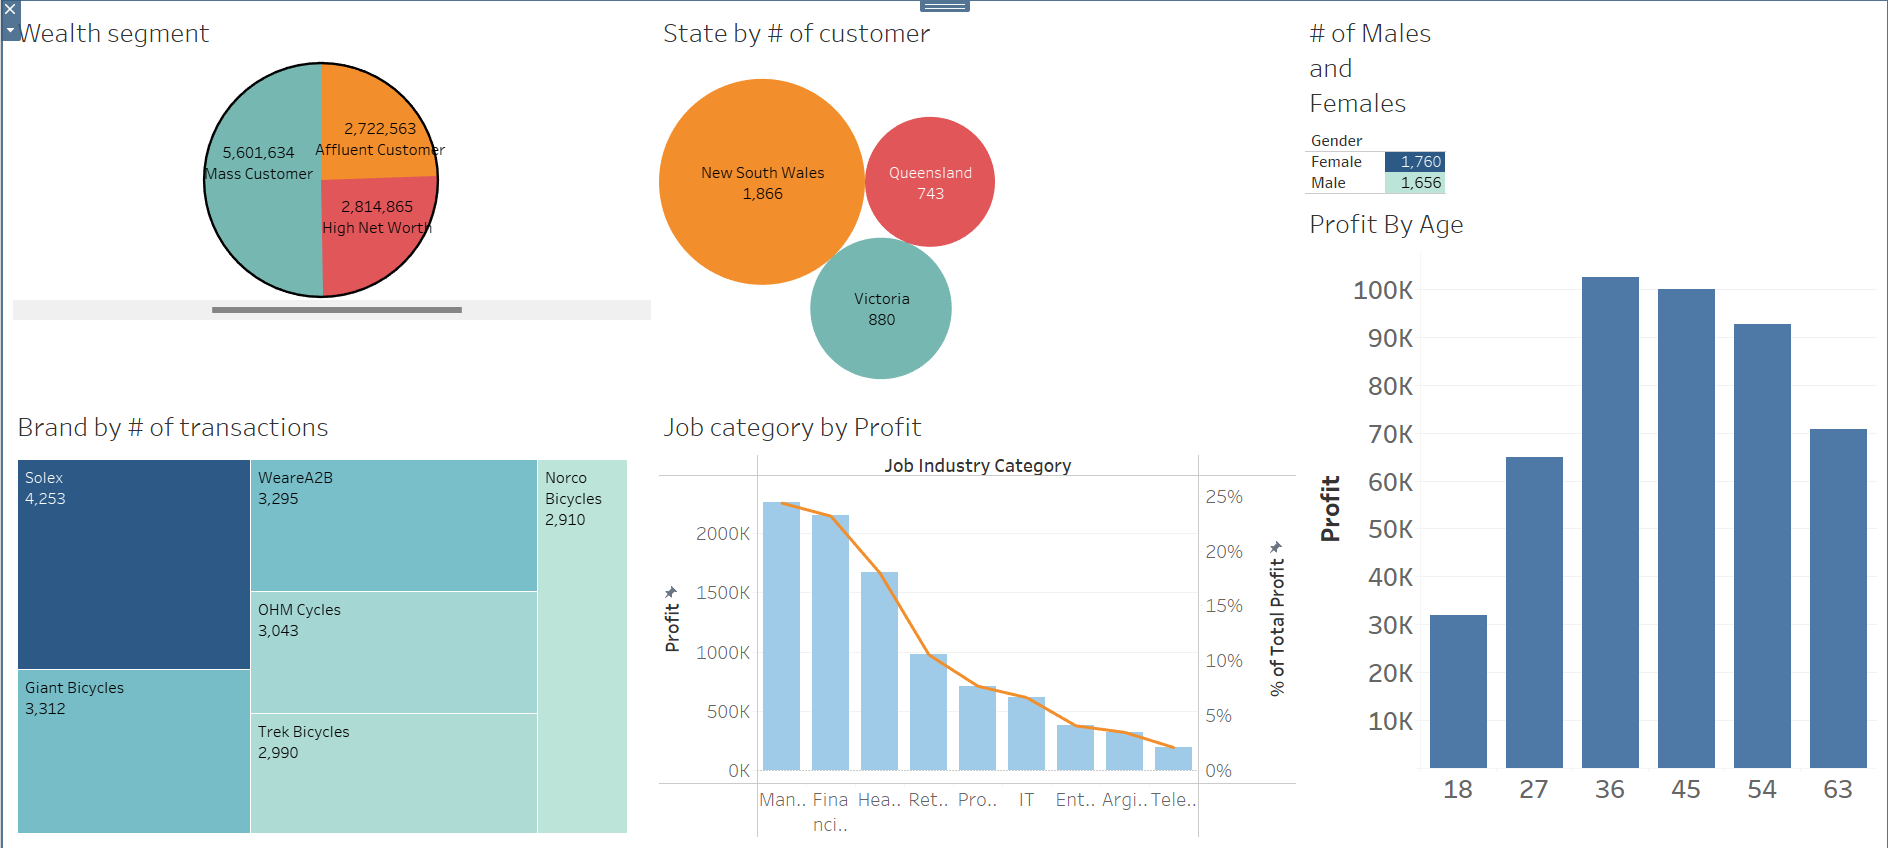

What the dashboard file says about the page in this screenshot:
{"tool":"tableau","page":{"name":"Dashboard 1","canvas":[1000,1000],"units":"permille","ordinal":0},"visuals":[{"type":"worksheet","title":"Sheet 5","mark":"Pie","box":[4.8,9.4,320.1,463]},{"type":"worksheet","title":"Sheet 8","mark":"Circle","box":[324.9,9.4,320.3,463]},{"type":"worksheet","title":"Sheet 1","mark":"Square","rows":["Gender"],"box":[645.1,9.4,350,224.4]},{"type":"worksheet","title":"Sheet 3","mark":"Automatic","rows":["Profit"],"cols":["Age (bin)"],"box":[645.1,233.8,350,756.8]},{"type":"worksheet","title":"Sheet 7","mark":"Automatic","box":[4.8,472.4,320.2,518.2]},{"type":"worksheet","title":"Sheet 6","mark":"Automatic","rows":["Profit","Profit"],"cols":["job_industry_category"],"box":[325,472.4,320.2,518.2]}]}

Visuals, with their boxes on the dashboard's canvas, which has no fixed pixel size, in thousandths of its width and height (x1, y1, x2, y2). These are canvas units, not pixel positions in the 1888x848 screenshot, which may show the page scaled, cropped or inside an application window:
"Sheet 5" worksheet (Pie marks): (5, 9, 325, 472)
"Sheet 8" worksheet (Circle marks): (325, 9, 645, 472)
"Sheet 1" worksheet (Square marks): (645, 9, 995, 234)
"Sheet 3" worksheet: (645, 234, 995, 991)
"Sheet 7" worksheet: (5, 472, 325, 991)
"Sheet 6" worksheet: (325, 472, 645, 991)
